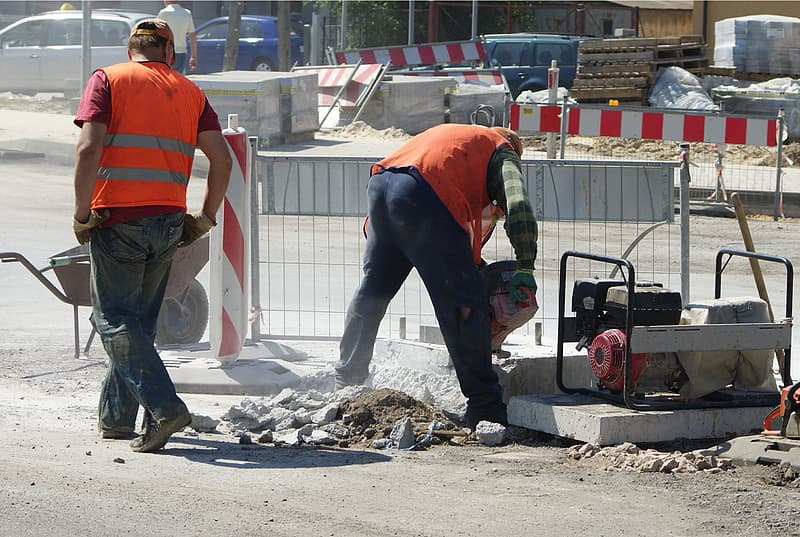Person: (63, 21, 233, 447), (339, 122, 533, 425), (157, 3, 198, 74)
Vest: (88, 22, 204, 212), (366, 128, 524, 257)
